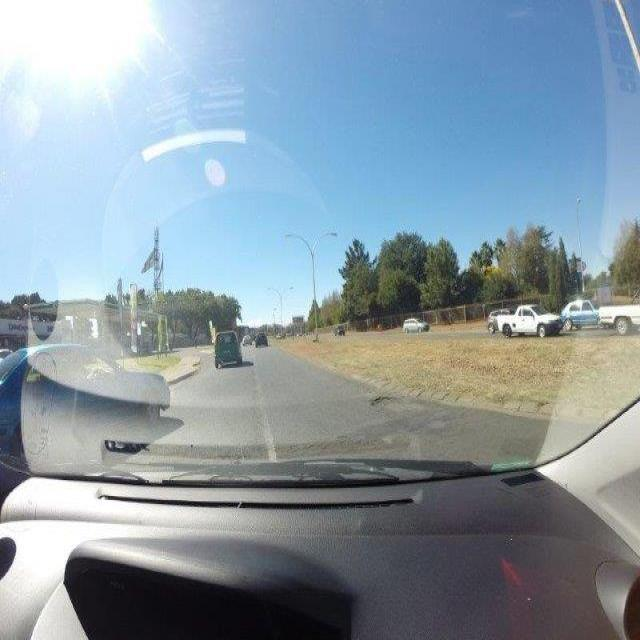lubang: (368, 393, 417, 412)
